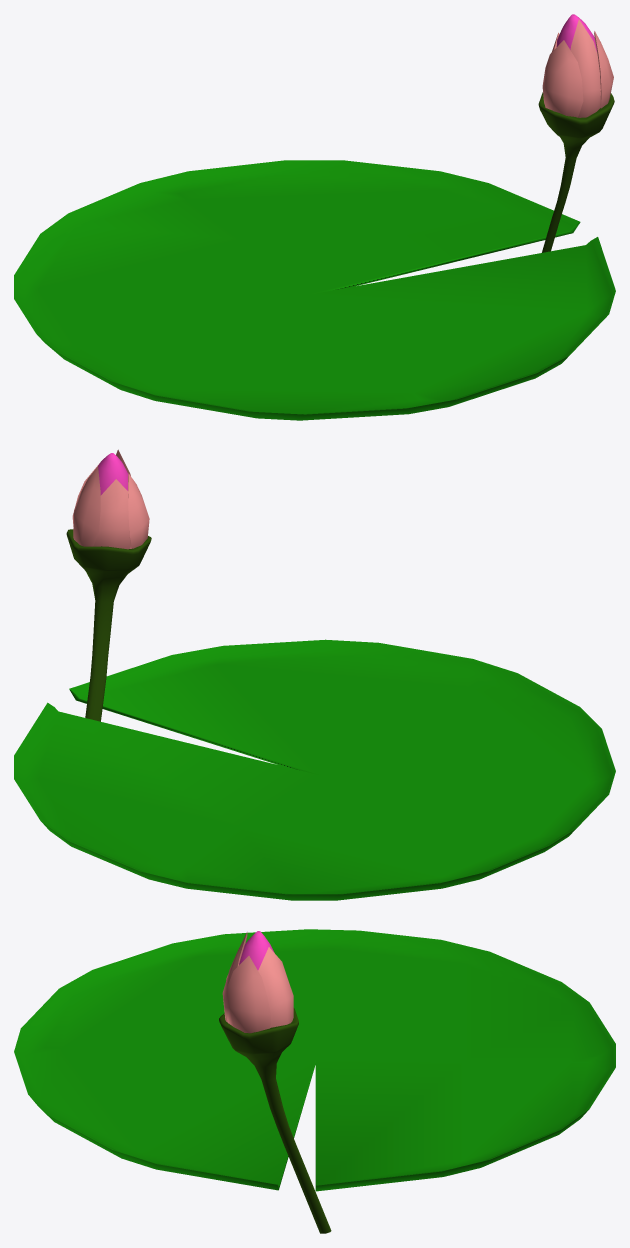
Rendered from waterlily.fbx.
3 views of the same model, one above another, from view 1: azimuth 30°, elevation 25°; view 2: azimuth 150°, elevation 25°; view 3: azimuth 270°, elevation 25° (orthographic).
Parts seen in each view (by area): view 1: waterlily; view 2: waterlily; view 3: waterlily.
Boxes of the visible parts, <box> form: waterlily: <box>14,14,615,420</box>; waterlily: <box>14,449,615,900</box>; waterlily: <box>14,929,615,1233</box>.
Bounding box in the file's own units: 43.82 × 24.2 × 43.31.
